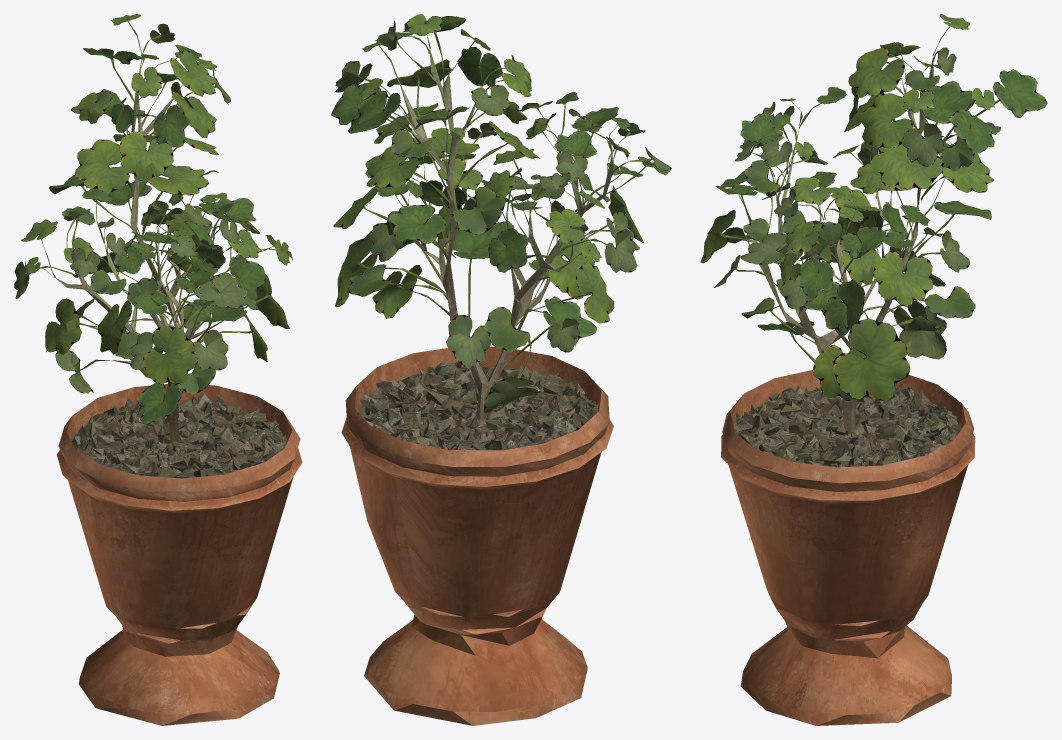
Rendered from plant-tall.glb.
The picture shows the model from 3 angles, left to right: view 1: azimuth 30°, elevation 25°; view 2: azimuth 150°, elevation 25°; view 3: azimuth 270°, elevation 25°; orthographic projection. The views are drawn at different scales.
Parts seen in each view (by area): view 1: plant-tall; view 2: plant-tall; view 3: plant-tall.
Part boxes in pixels (x1,y1,x2,y2): plant-tall: [14, 14, 302, 725]; plant-tall: [331, 14, 671, 725]; plant-tall: [700, 14, 1047, 725].
Size of the model in its own units: 0.5859 by 1.34 by 0.6343.
Materials: 2 (2 with a texture image).
